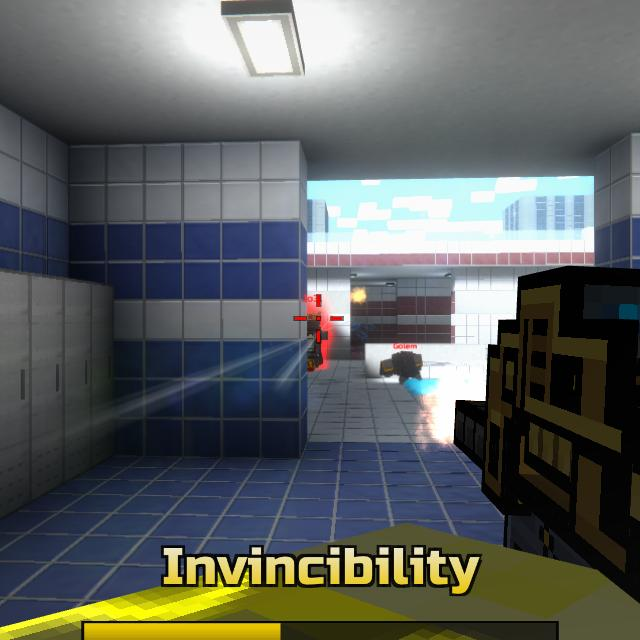Enemy: (307, 314, 328, 371)
